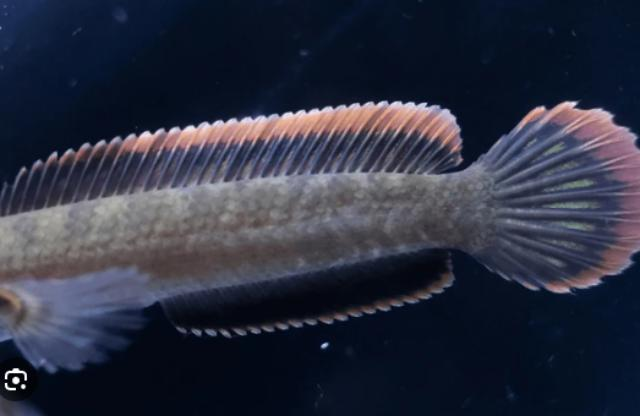Sirip Anal: (162, 244, 460, 342)
Sirip Dada: (1, 262, 159, 376)
Sirip Ekor: (468, 95, 640, 307)
Sirip Punggung: (3, 97, 463, 219)
